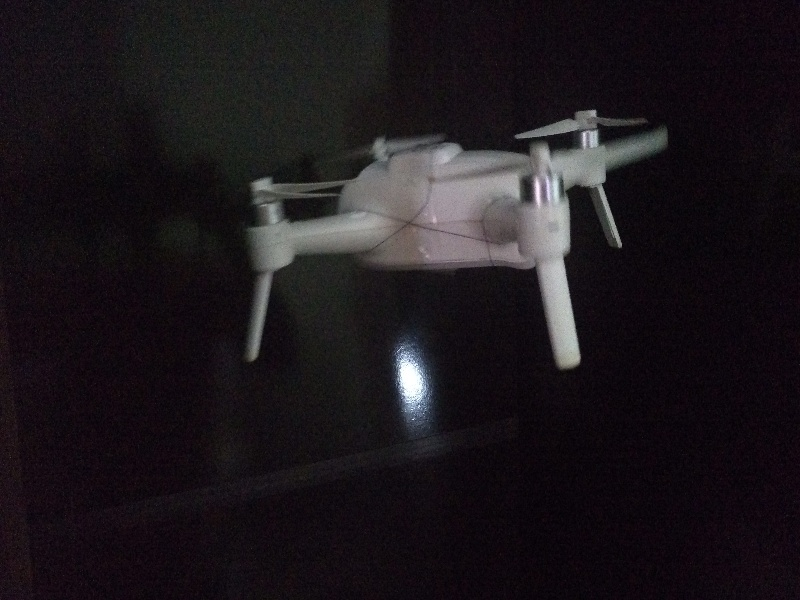drone: (231, 100, 677, 378)
